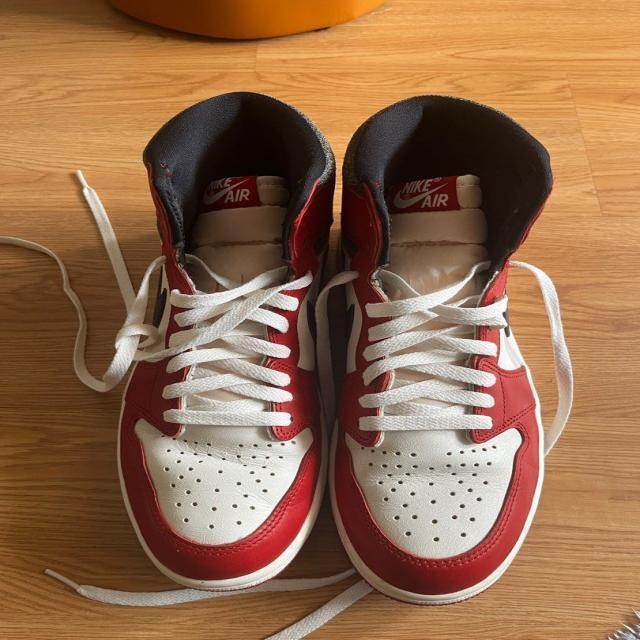nike original jordan 1: (322, 95, 559, 602), (115, 90, 342, 598)
